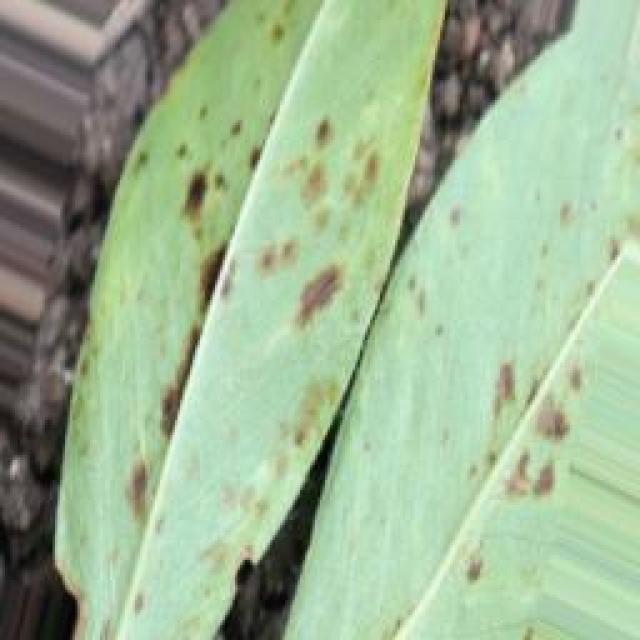Whitefly: (70, 0, 595, 585)
